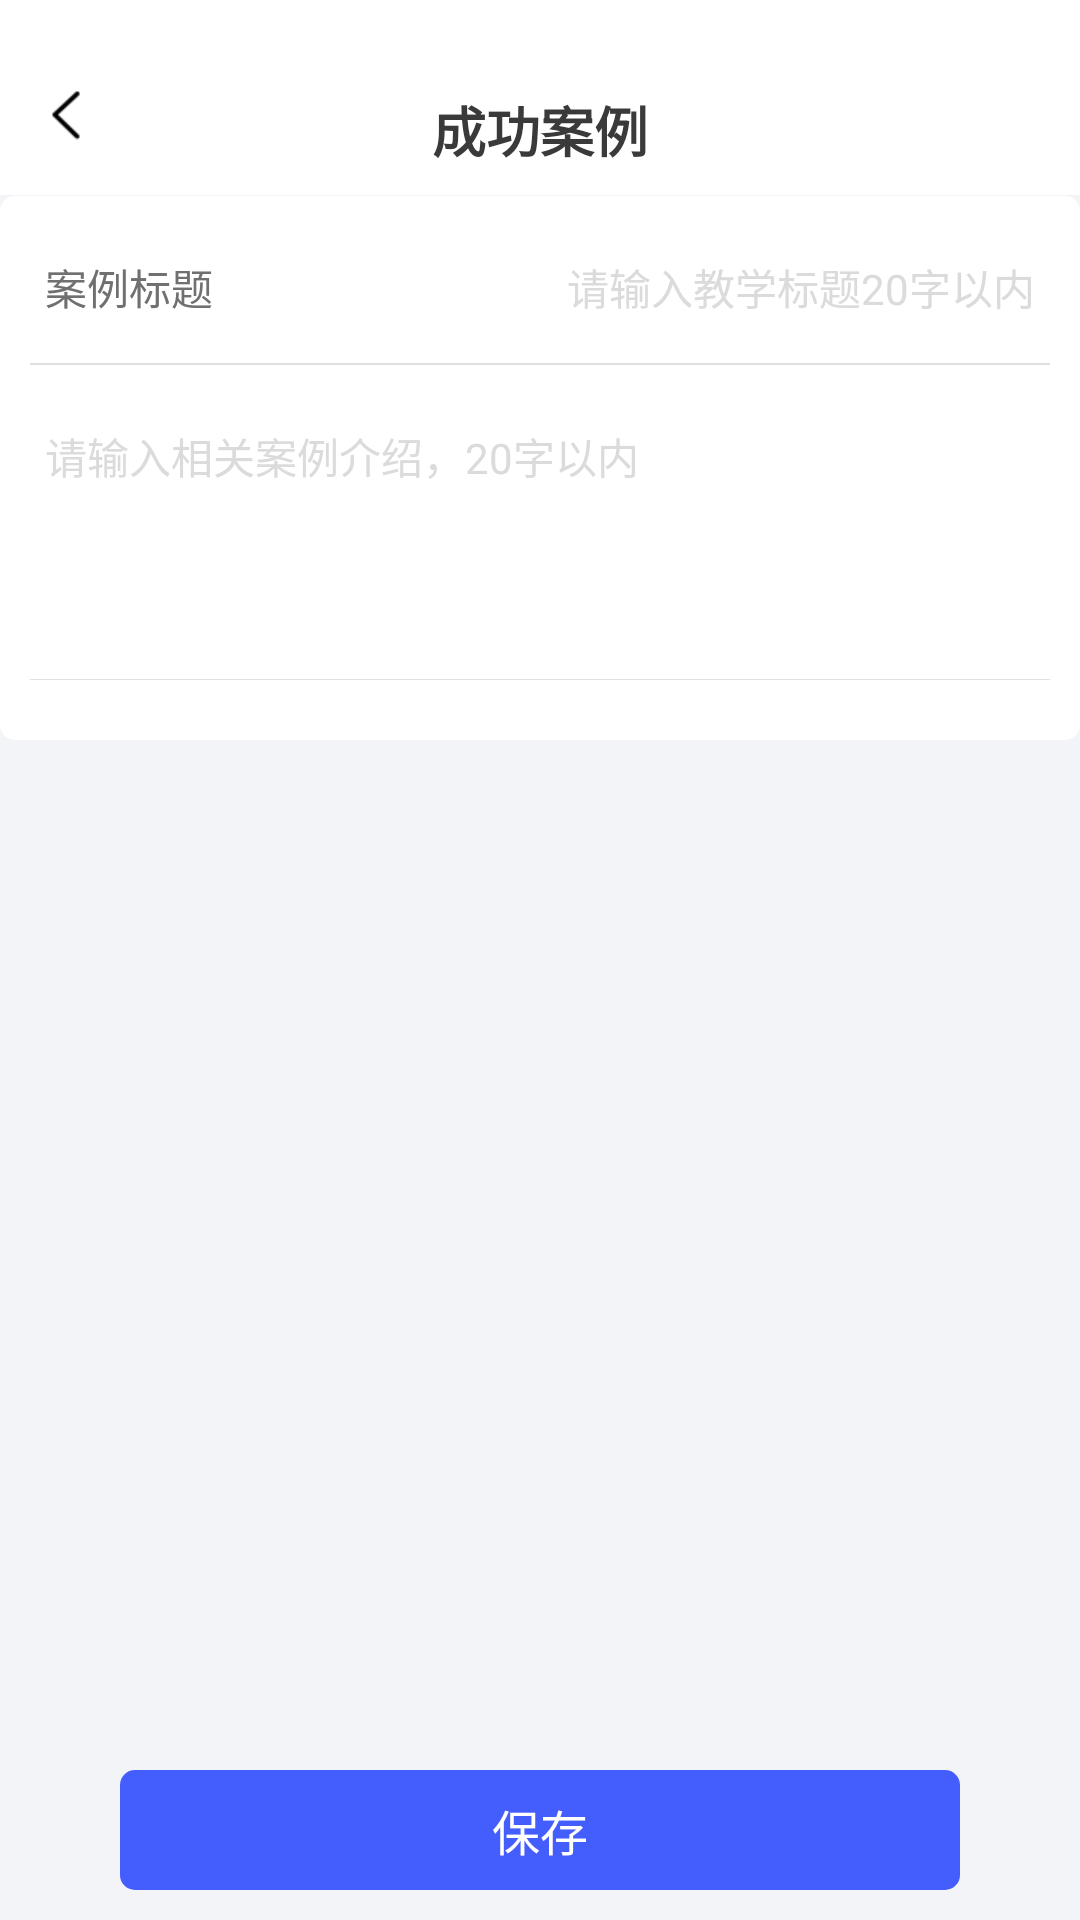

Icons on this 1080 × 1920 Android screen, each with its box as (x1, y1, x2, y2):
left: (52, 91, 80, 140)
